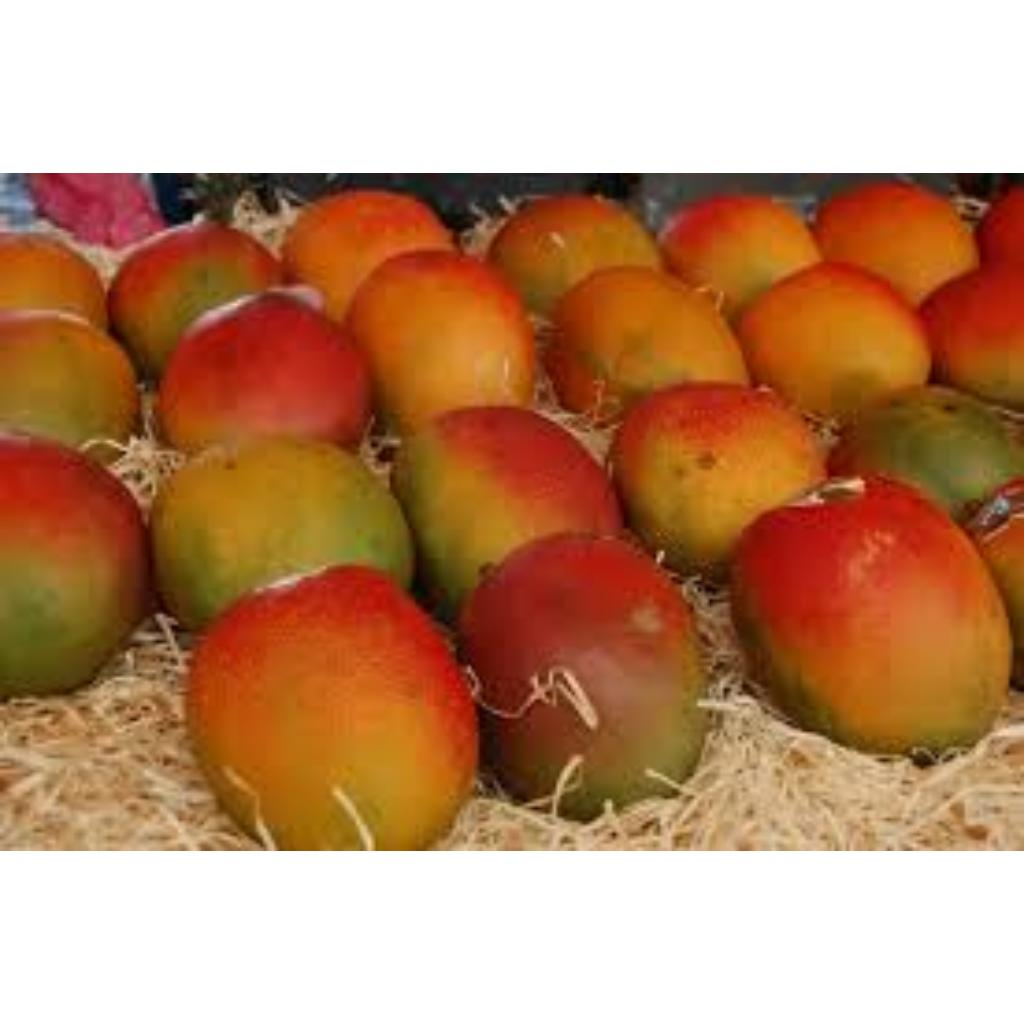mango: (709, 476, 1024, 747), (189, 566, 482, 852), (452, 530, 712, 813), (400, 407, 632, 621), (159, 441, 415, 632), (0, 434, 158, 705), (150, 289, 380, 456), (348, 249, 552, 426), (557, 261, 758, 435), (730, 263, 930, 405)
